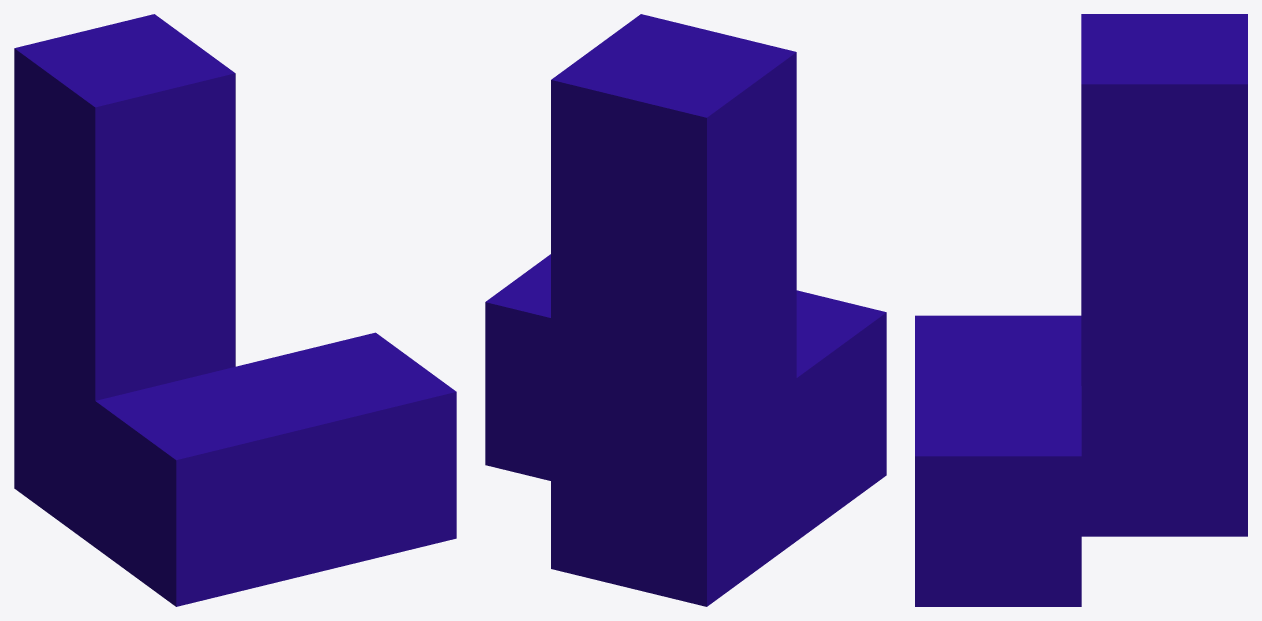
File: ellelltri.obj
3 renders of one model, left to right at view 1: azimuth 30°, elevation 25°; view 2: azimuth 150°, elevation 25°; view 3: azimuth 270°, elevation 25°, orthographic. The views are drawn at different scales.
Parts seen in each view (by area): view 1: ellelltri; view 2: ellelltri; view 3: ellelltri.
Part boxes in pixels (x1,y1,x2,y2): ellelltri: (14, 14, 456, 606); ellelltri: (485, 14, 886, 606); ellelltri: (915, 14, 1247, 606).
Size of the model in its own units: 2 by 3 by 2.
